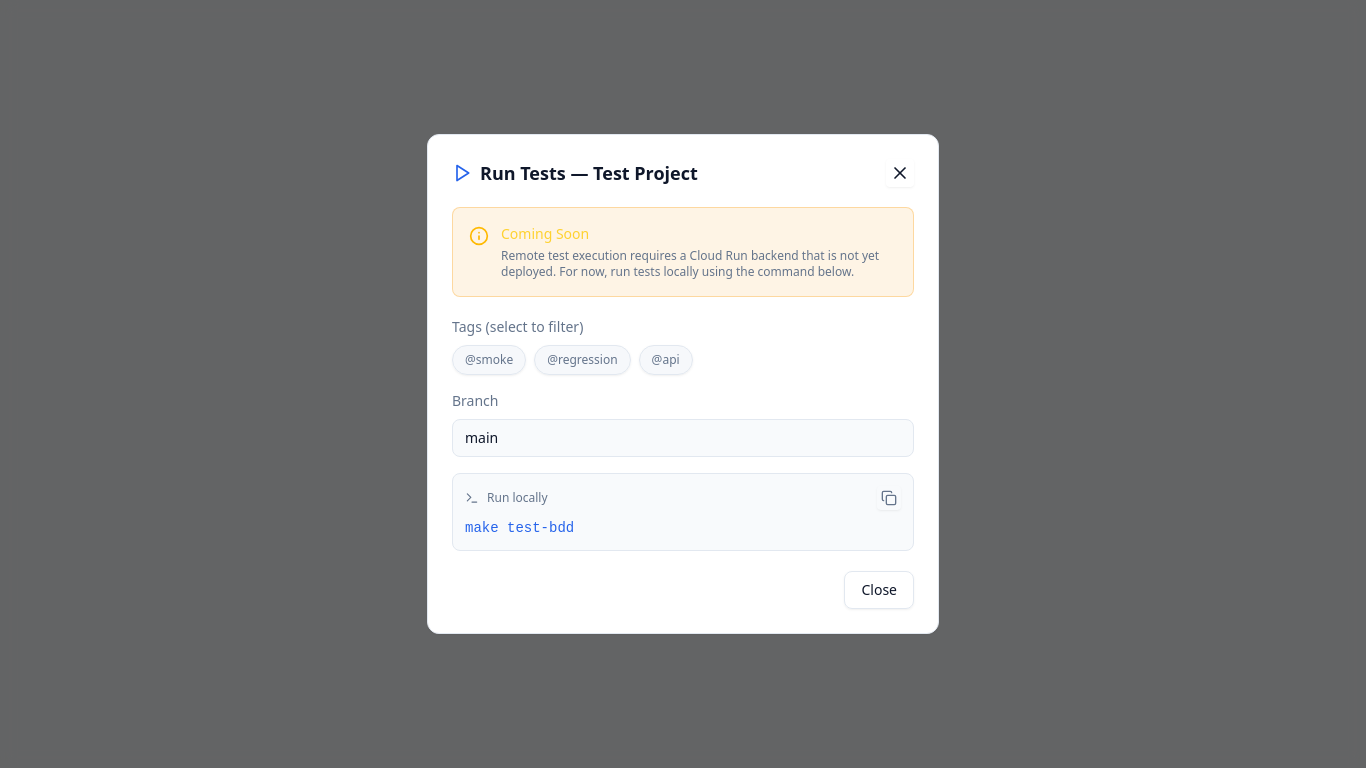
Test: RunTestsDialog › updates command preview with multiple tags
Click the button "@smoke".
click(489, 360)  # box [452,345,526,375]
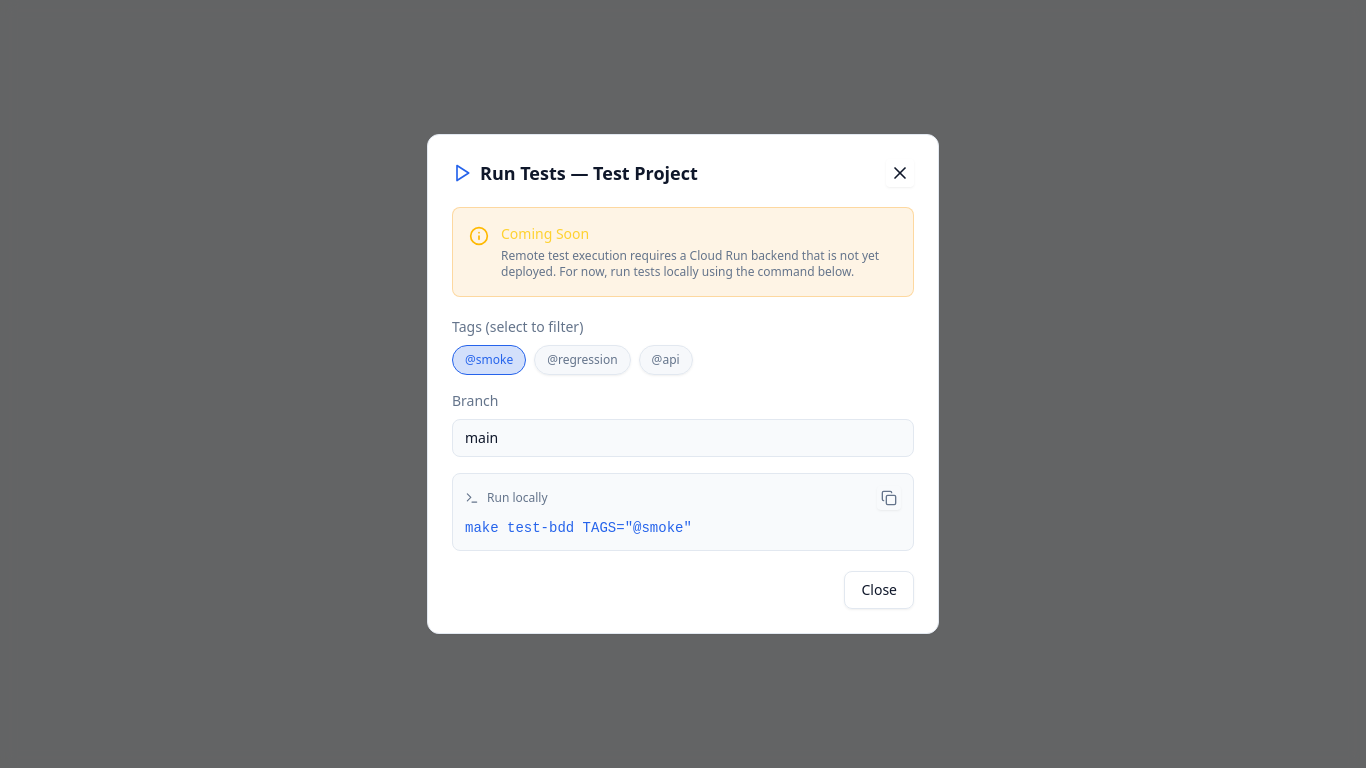
Click the button "@api".
click(666, 360)  # box [639,345,693,375]
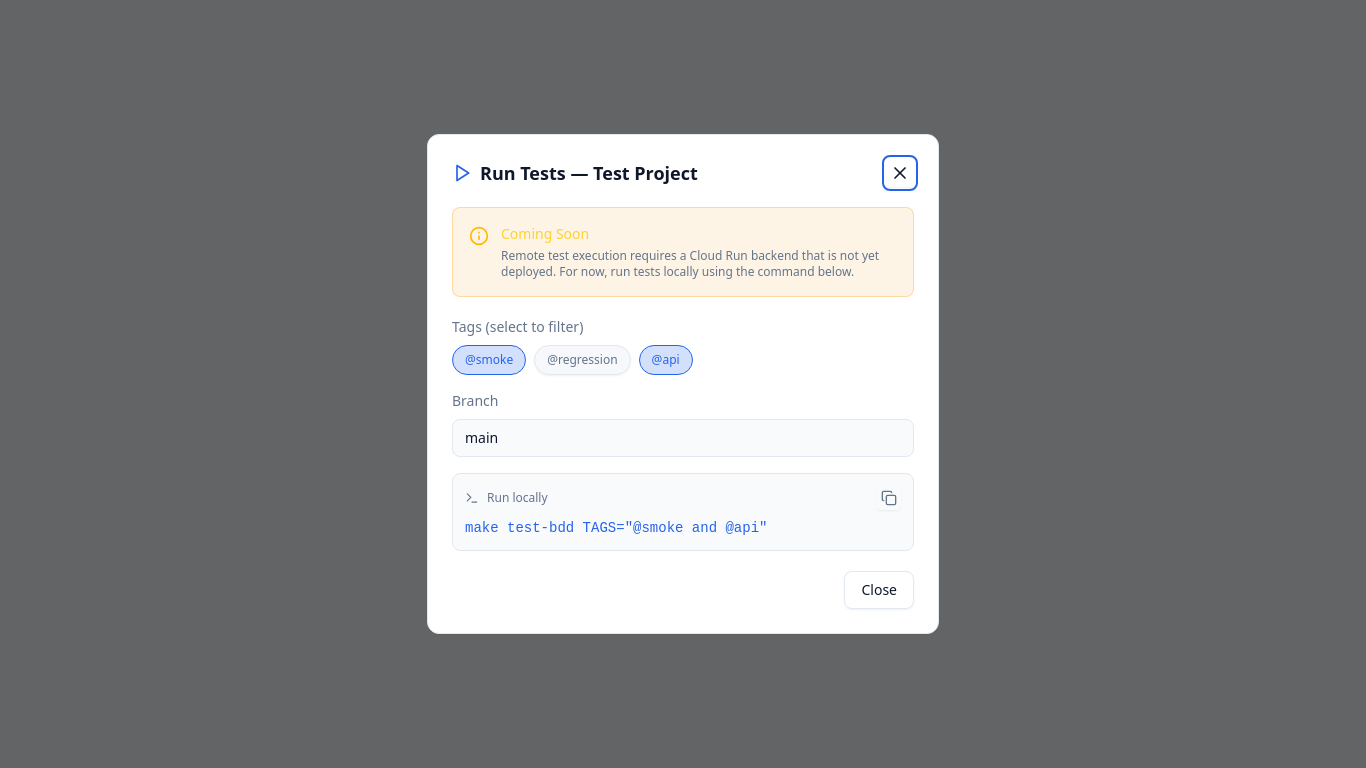
Now the text "make test-bdd TAGS=\"@smoke and @api\"" is shown, box [465,520,768,536]
